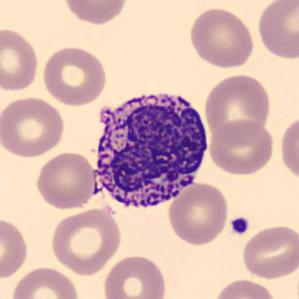Basophil: (87, 82, 214, 218)
Platelets: (229, 215, 251, 236)
RBC: (48, 206, 124, 276), (202, 71, 272, 145), (165, 180, 231, 247), (187, 5, 256, 69), (0, 94, 67, 159), (40, 44, 109, 107), (206, 118, 277, 176), (33, 150, 98, 211), (240, 222, 298, 281), (101, 252, 169, 299), (0, 26, 41, 93), (255, 0, 298, 62), (10, 264, 81, 299), (0, 215, 30, 282), (60, 0, 130, 26), (210, 276, 278, 299), (278, 112, 298, 184)
